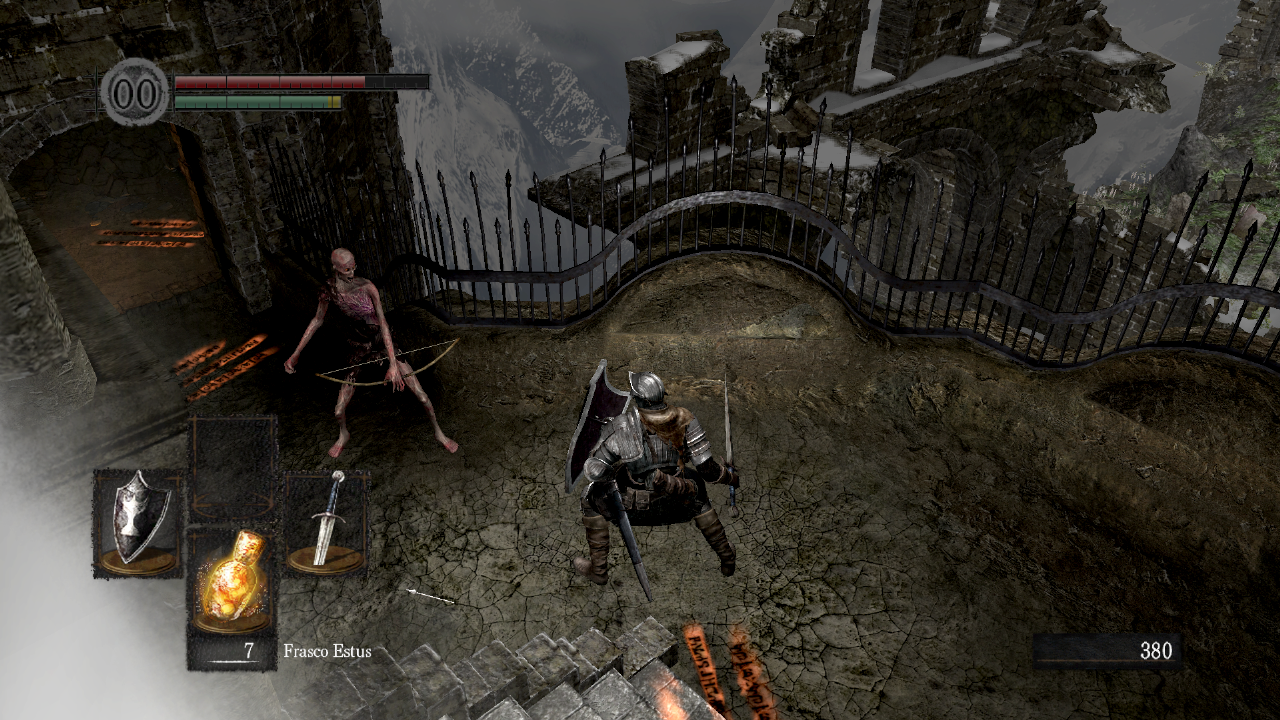hollow: (283, 247, 461, 458)
player: (564, 358, 741, 605)
